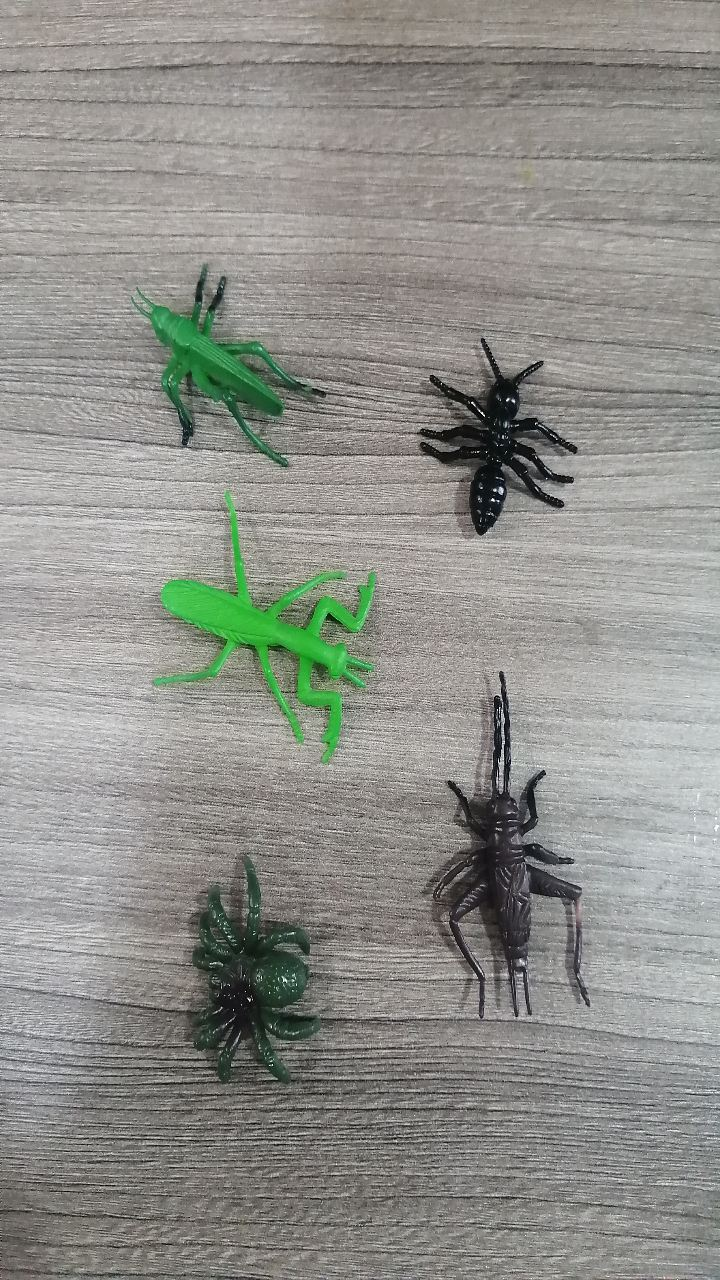intruso: (132, 465, 408, 783), (395, 643, 604, 1039), (141, 822, 371, 1106), (383, 285, 594, 566), (104, 235, 331, 494)
